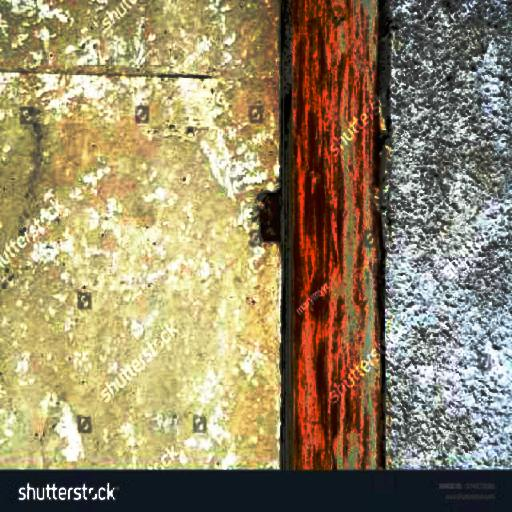corrosion: (288, 0, 387, 474)
